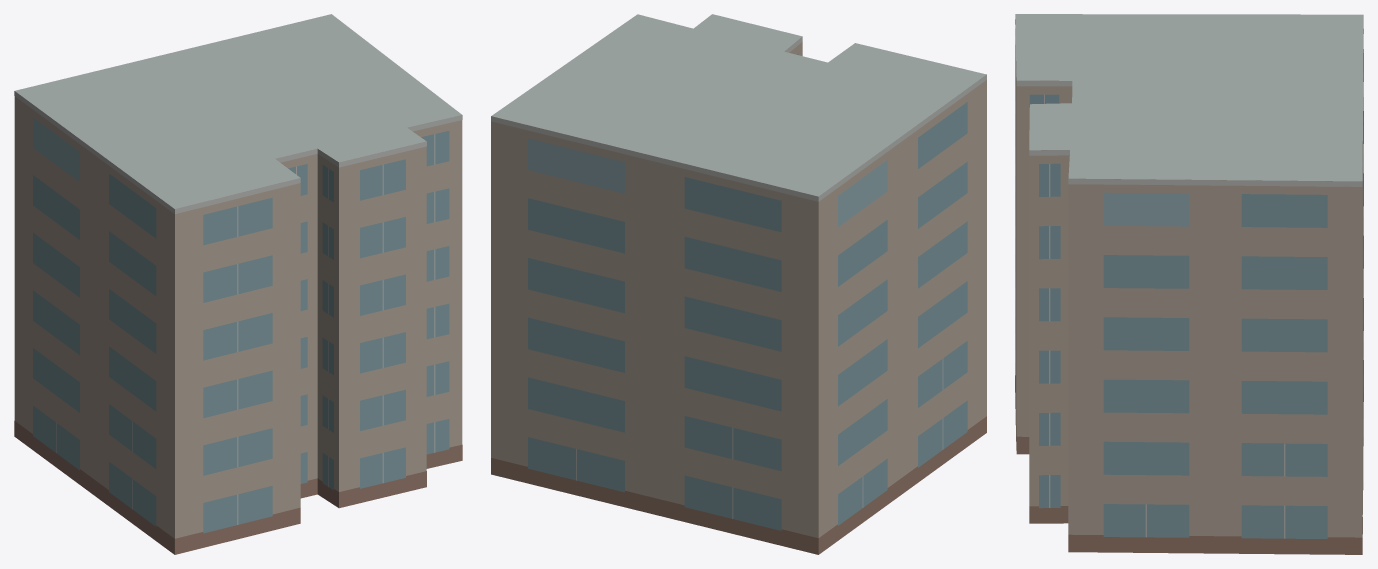
File: survey-upis-32858278.glb
3 views of the same model, side by side, from view 1: azimuth 30°, elevation 25°; view 2: azimuth 150°, elevation 25°; view 3: azimuth 270°, elevation 25° (orthographic). The views are drawn at different scales.
Parts seen in each view (by area): view 1: survey-upis-32858278.tmp; view 2: survey-upis-32858278.tmp; view 3: survey-upis-32858278.tmp.
Part boxes in pixels (x1,y1,x2,y2): survey-upis-32858278.tmp: (14, 14, 462, 554); survey-upis-32858278.tmp: (491, 14, 986, 554); survey-upis-32858278.tmp: (1015, 14, 1363, 554).
Size of the model in its own units: 15.87 by 16.5 by 13.97.
